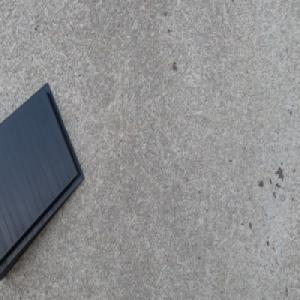PlasticPart: (0, 81, 85, 283)
